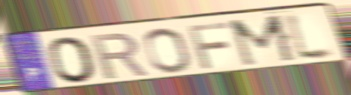F: (185, 21, 233, 71)
L: (282, 11, 341, 64)
M: (227, 13, 300, 69)
O: (45, 35, 100, 85), (142, 26, 194, 74)
R: (88, 31, 151, 81)
